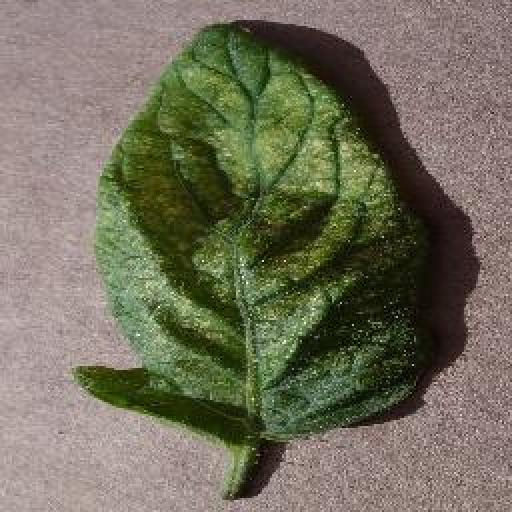Spider Mites: (69, 24, 427, 452)
